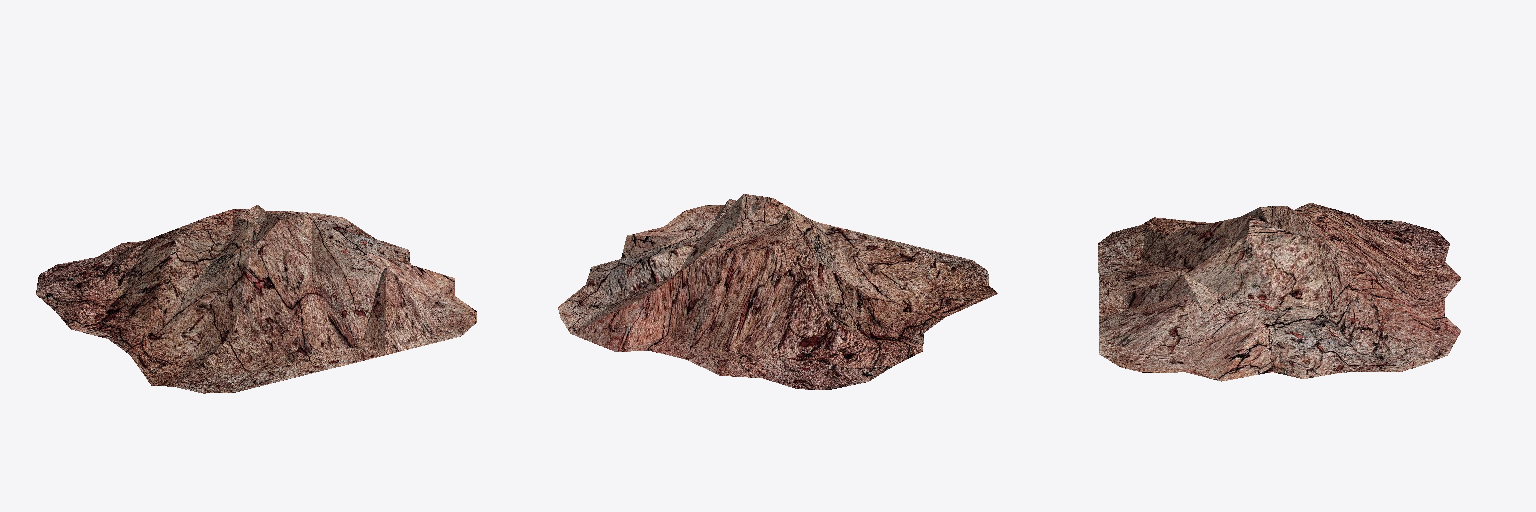
3 views of the same model, side by side, from view 1: azimuth 30°, elevation 25°; view 2: azimuth 150°, elevation 25°; view 3: azimuth 270°, elevation 25° (orthographic).
Visible parts, largest first — view 1: Plane; view 2: Plane; view 3: Plane.
Boxes of the visible parts, x1=… form: Plane: x1=36, y1=205, x2=476, y2=393; Plane: x1=558, y1=194, x2=997, y2=389; Plane: x1=1098, y1=203, x2=1460, y2=381.
Bounding box in the file's own units: 4.47 × 1.12 × 4.13.
1 materials, 1 textured.